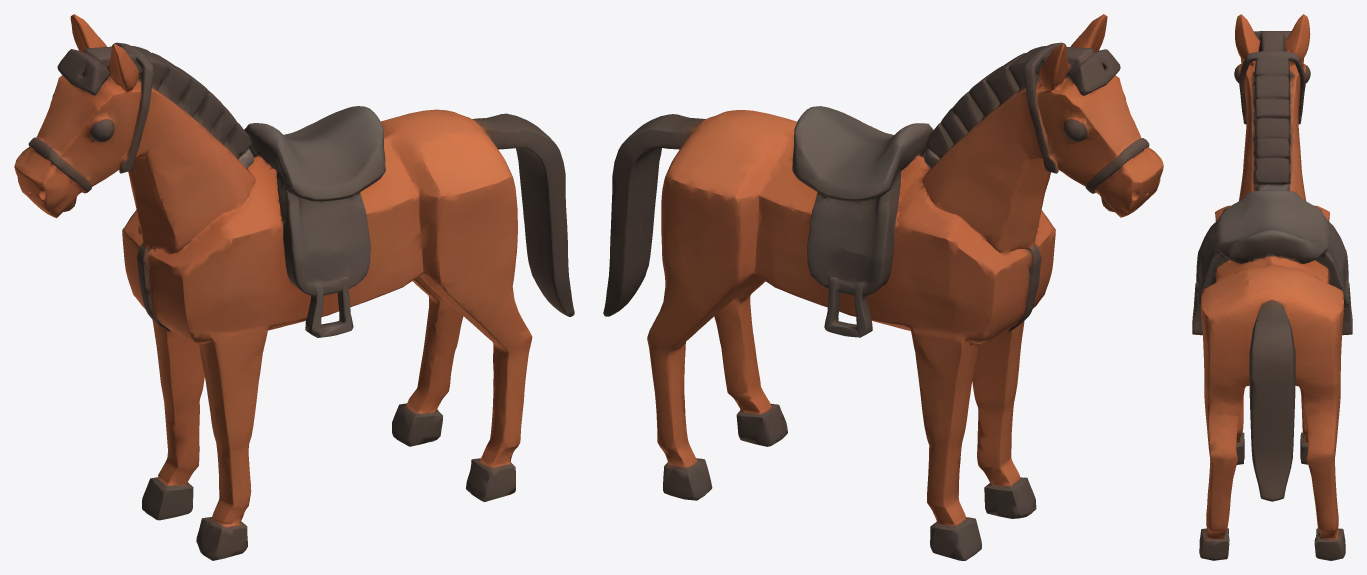
File: horse.glb
3 renders of one model, left to right at view 1: azimuth 30°, elevation 25°; view 2: azimuth 150°, elevation 25°; view 3: azimuth 270°, elevation 25°, orthographic. The views are drawn at different scales.
Visible parts, largest first — view 1: tripo_node_d769e9a7-610a-4355-85fc-59850c6c41a8; view 2: tripo_node_d769e9a7-610a-4355-85fc-59850c6c41a8; view 3: tripo_node_d769e9a7-610a-4355-85fc-59850c6c41a8.
Boxes of the visible parts, box(x1,y1,x2,y2) form: tripo_node_d769e9a7-610a-4355-85fc-59850c6c41a8: box(14, 14, 574, 560); tripo_node_d769e9a7-610a-4355-85fc-59850c6c41a8: box(603, 14, 1163, 560); tripo_node_d769e9a7-610a-4355-85fc-59850c6c41a8: box(1192, 14, 1352, 560).
Size of the model in its own units: 1 by 0.9222 by 0.3292.
Materials: 1 (1 with a texture image).
